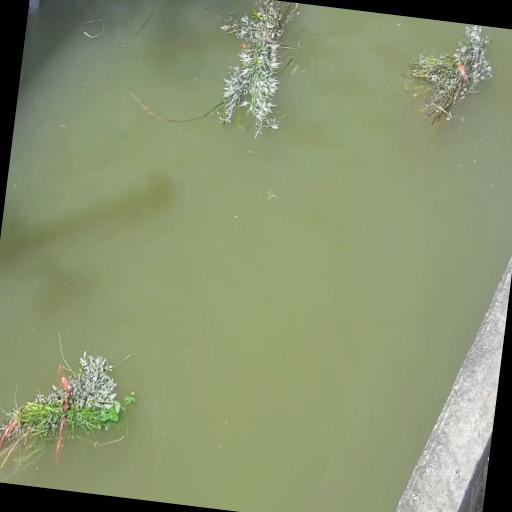twig: (127, 0, 305, 140), (0, 328, 142, 489), (397, 20, 498, 138)
